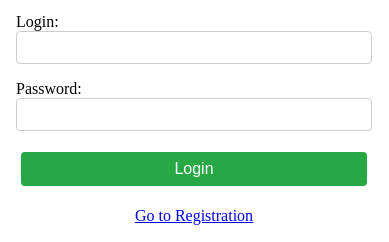
Test case: Login Page render › Navigate to Registration page when click "Go to Registration" link
This screenshot has width=389, height=242.
Click the link "Go to Registration" at (194, 216), box [135,207,253,224]
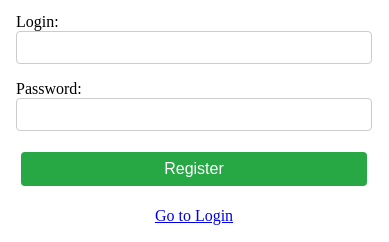
Check: the link "Go to Login" is shown, box [155,207,233,224]
